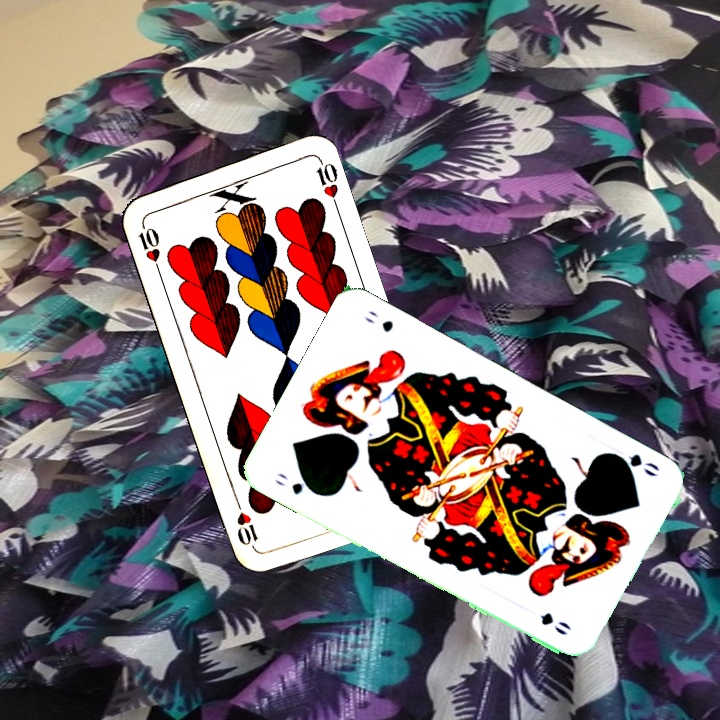GO: (609, 449, 662, 480), (271, 468, 322, 498)
H10: (134, 217, 163, 275)
